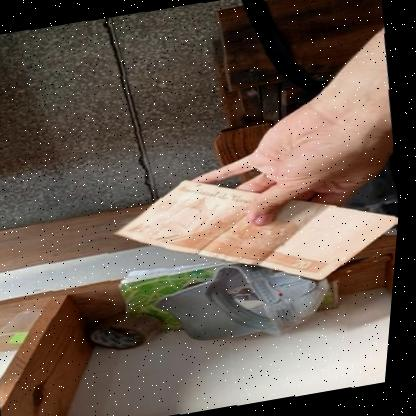twenty-back-vef: (105, 142, 407, 314)
